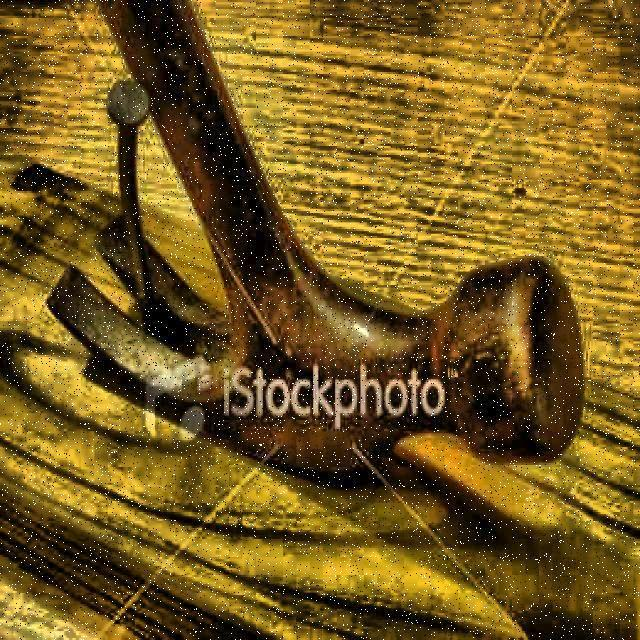hammer: (41, 0, 587, 484)
